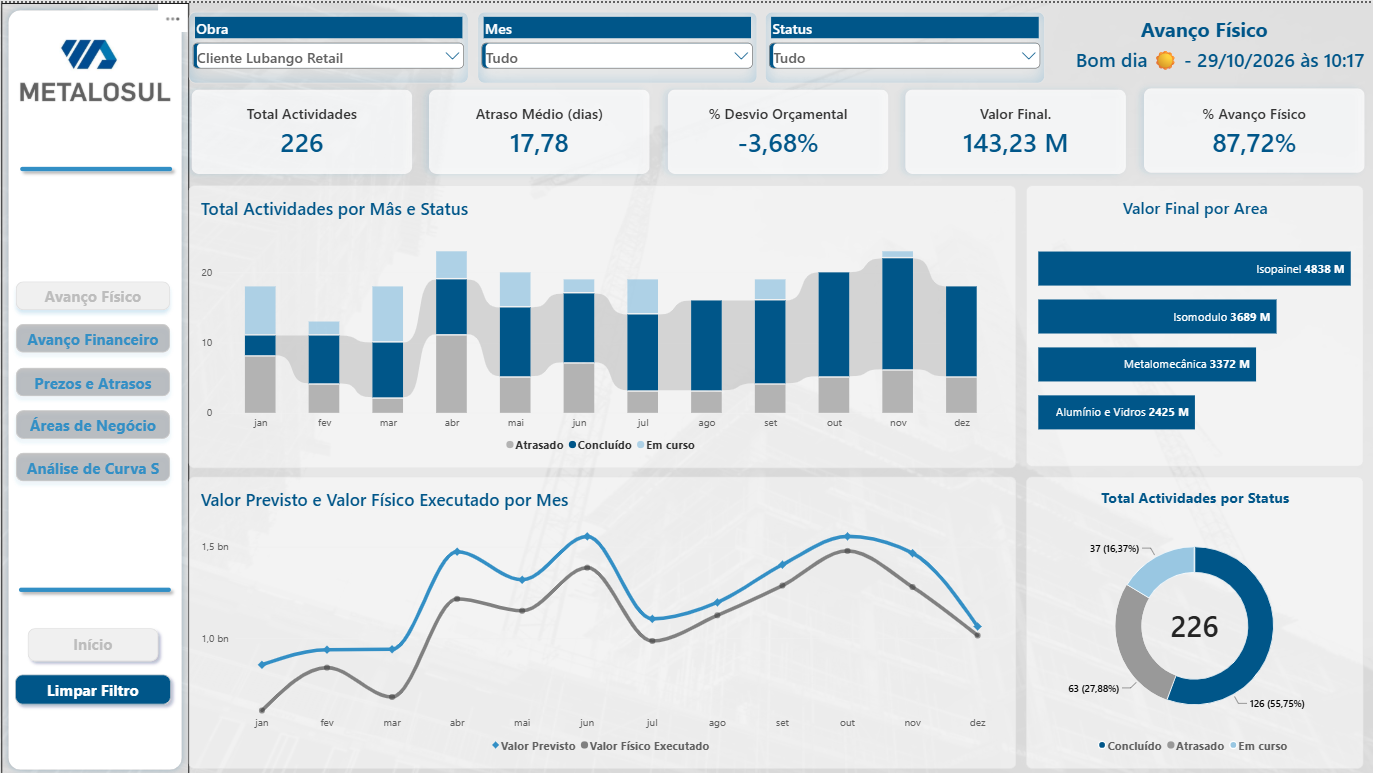

What the dashboard file says about the page in this screenshot:
{"tool":"powerbi","page":{"name":"Avanço Físico","canvas":[1920,1080],"ordinal":0},"visuals":[{"type":"shape","box":[2,0,262,1080],"z":0},{"type":"image","box":[24.6,37.7,216.2,102.3],"z":1000},{"type":"cardVisual","fields":{"Data":["Fact_Producao.Saudação"]},"box":[1445.7,58.6,468,52],"z":2000,"group":"g1"},{"type":"actionButton","box":[12.4,378,235,60],"z":2000},{"type":"shape","box":[18.3,186.7,230,90],"z":3000},{"type":"actionButton","box":[12.4,438,235,60],"z":4000},{"type":"actionButton","box":[12,498,235,60],"z":5000},{"type":"actionButton","box":[12.4,558,235,60],"z":6000},{"type":"actionButton","box":[12.4,618,235,60],"z":7000},{"type":"shape","box":[17.7,774.6,230,88.8],"z":8000},{"type":"actionButton","box":[29.9,864,200,64],"z":9000},{"type":"actionButton","box":[12.4,928,235,60],"z":10000},{"type":"cardVisual","fields":{"Data":["Fact_Producao.Total Actividades"]},"box":[251.2,104,340,150],"z":11000},{"type":"cardVisual","fields":{"Data":["Fact_Producao.Valor Final."]},"box":[1247.8,104,340,150],"z":12000},{"type":"cardVisual","fields":{"Data":["Fact_Producao.Atraso Médio (dias)"]},"box":[583.4,104,340,150],"z":13000},{"type":"cardVisual","fields":{"Data":["Fact_Producao.% Desvio Orçamental"]},"box":[915.6,104,340,150],"z":14000},{"type":"cardVisual","fields":{"Data":["Fact_Producao.% Avanço Físico"]},"box":[1580,103.3,340,150],"z":15000},{"type":"slicer","fields":{"Values":["Dim_Obras.Nome_Obra"]},"box":[264,12,390,100],"z":16000},{"type":"slicer","fields":{"Values":["Dim_Datas.Mes"]},"box":[665.5,12,390,100],"z":17000},{"type":"slicer","fields":{"Values":["Fact_Producao.Status"]},"box":[1068,12,390,100],"z":18000},{"type":"group","id":"g1","title":"Grupo 1","box":[1445.7,14.3,468.6,95.7],"z":19000},{"type":"shape","box":[1457.1,14.3,444.4,43.3],"z":19001,"group":"g1"},{"type":"columnChart","title":"Total Actividades por Mâs e Status","fields":{"Category":["Dim_Datas.Mes"],"Series":["Fact_Producao.Status"],"Y":["Fact_Producao.Total Actividades"]},"box":[264,254,1154,394],"z":20000},{"type":"lineChart","fields":{"Category":["Dim_Datas.Mes"],"Y":["Fact_Producao.Valor Previsto","Fact_Producao.Valor Físico Executado"]},"box":[262.9,661.4,1154.3,407.1],"z":21000},{"type":"clusteredBarChart","title":"Valor Final por Area","fields":{"Series":["Dim_Produtos.Area"],"Y":["Fact_Producao.Valor Final"]},"box":[1431.7,255,470,391.7],"z":22000},{"type":"donutChart","fields":{"Category":["Fact_Producao.Status"],"Y":["Fact_Producao.Total Actividades"]},"box":[1432,661,470,407],"z":23000}]}

Visuals, with their boxes in screenshot pixels (x1, y1, x2, y2), scaled from the page's 1920x1080 canvas onto the 1373x773 screenshot:
shape: (left=1, top=0, right=189, bottom=772)
image: (left=18, top=27, right=172, bottom=100)
cardVisual - Fact_Producao.Saudação: (left=1034, top=42, right=1368, bottom=79)
actionButton: (left=9, top=271, right=177, bottom=313)
shape: (left=13, top=134, right=178, bottom=198)
actionButton: (left=9, top=313, right=177, bottom=356)
actionButton: (left=9, top=356, right=177, bottom=399)
actionButton: (left=9, top=399, right=177, bottom=442)
actionButton: (left=9, top=442, right=177, bottom=485)
shape: (left=13, top=554, right=177, bottom=618)
actionButton: (left=21, top=618, right=164, bottom=664)
actionButton: (left=9, top=664, right=177, bottom=707)
cardVisual - Fact_Producao.Total Actividades: (left=180, top=74, right=423, bottom=182)
cardVisual - Fact_Producao.Valor Final.: (left=892, top=74, right=1135, bottom=182)
cardVisual - Fact_Producao.Atraso Médio (dias): (left=417, top=74, right=660, bottom=182)
cardVisual - Fact_Producao.% Desvio Orçamental: (left=655, top=74, right=898, bottom=182)
cardVisual - Fact_Producao.% Avanço Físico: (left=1130, top=74, right=1372, bottom=181)
slicer - Dim_Obras.Nome_Obra: (left=189, top=9, right=468, bottom=80)
slicer - Dim_Datas.Mes: (left=476, top=9, right=755, bottom=80)
slicer - Fact_Producao.Status: (left=764, top=9, right=1043, bottom=80)
"Grupo 1" group: (left=1034, top=10, right=1369, bottom=79)
shape: (left=1042, top=10, right=1360, bottom=41)
"Total Actividades por Mâs e Status" columnChart: (left=189, top=182, right=1014, bottom=464)
lineChart - Dim_Datas.Mes x Fact_Producao.Valor Previsto: (left=188, top=473, right=1013, bottom=765)
"Valor Final por Area" clusteredBarChart: (left=1024, top=183, right=1360, bottom=463)
donutChart - Fact_Producao.Status x Fact_Producao.Total Actividades: (left=1024, top=473, right=1360, bottom=764)
